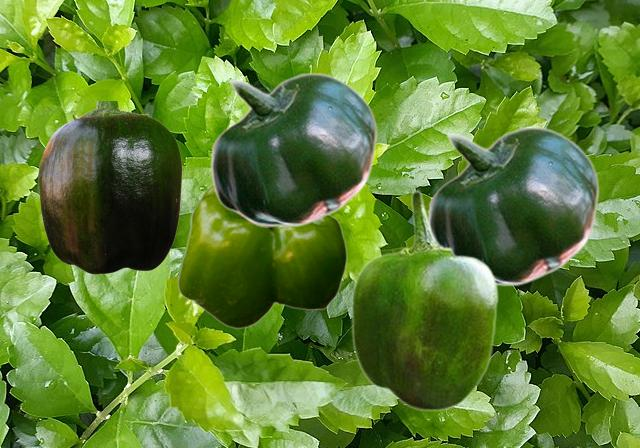bell_pepper: (350, 189, 498, 411), (426, 126, 598, 285), (209, 72, 376, 226), (38, 101, 181, 273), (177, 184, 346, 328)
